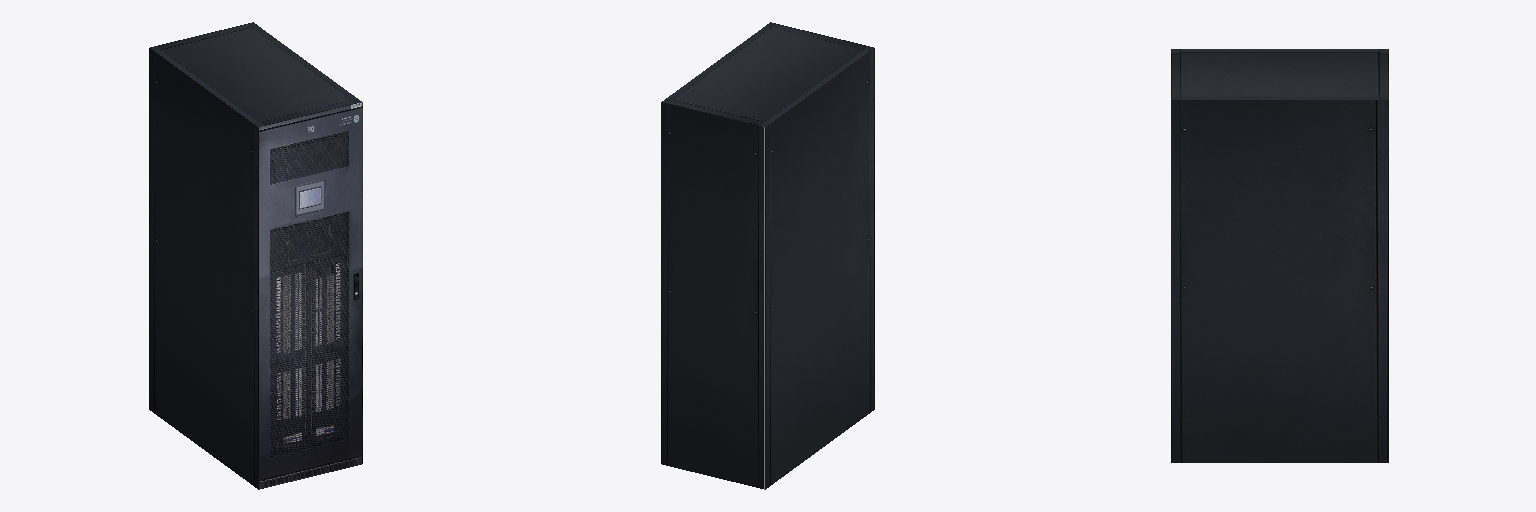
3 renders of one model, left to right at view 1: azimuth 30°, elevation 25°; view 2: azimuth 150°, elevation 25°; view 3: azimuth 270°, elevation 25°, orthographic.
Visible parts, largest first — view 1: Box001; view 2: Box001; view 3: Box001.
Part boxes in pixels (left/top/right/bottom): Box001: left=149, top=22, right=362, bottom=489; Box001: left=661, top=22, right=874, bottom=489; Box001: left=1171, top=49, right=1388, bottom=462.
Bounding box in the file's own units: 60.06 × 200 × 109.
1 materials, 1 textured.